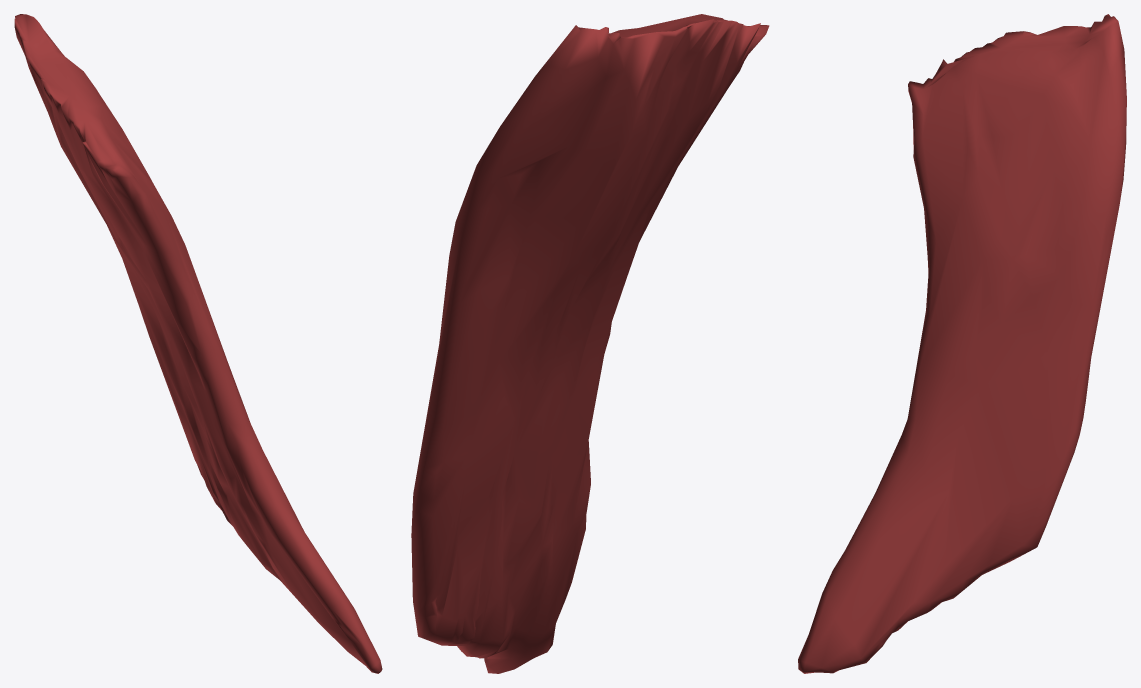
File: deep-part-of-masseter-r.glb
The picture shows the model from 3 angles, left to right: view 1: azimuth 30°, elevation 25°; view 2: azimuth 150°, elevation 25°; view 3: azimuth 270°, elevation 25°; orthographic projection. The views are drawn at different scales.
Parts seen in each view (by area): view 1: Deep part of masseter.r; view 2: Deep part of masseter.r; view 3: Deep part of masseter.r.
Part boxes in pixels (x1,y1,x2,y2): Deep part of masseter.r: (14,14,382,673); Deep part of masseter.r: (411,14,769,673); Deep part of masseter.r: (798,14,1126,673).
Bounding box in the file's own units: 0.027 × 0.0655 × 0.0346.
